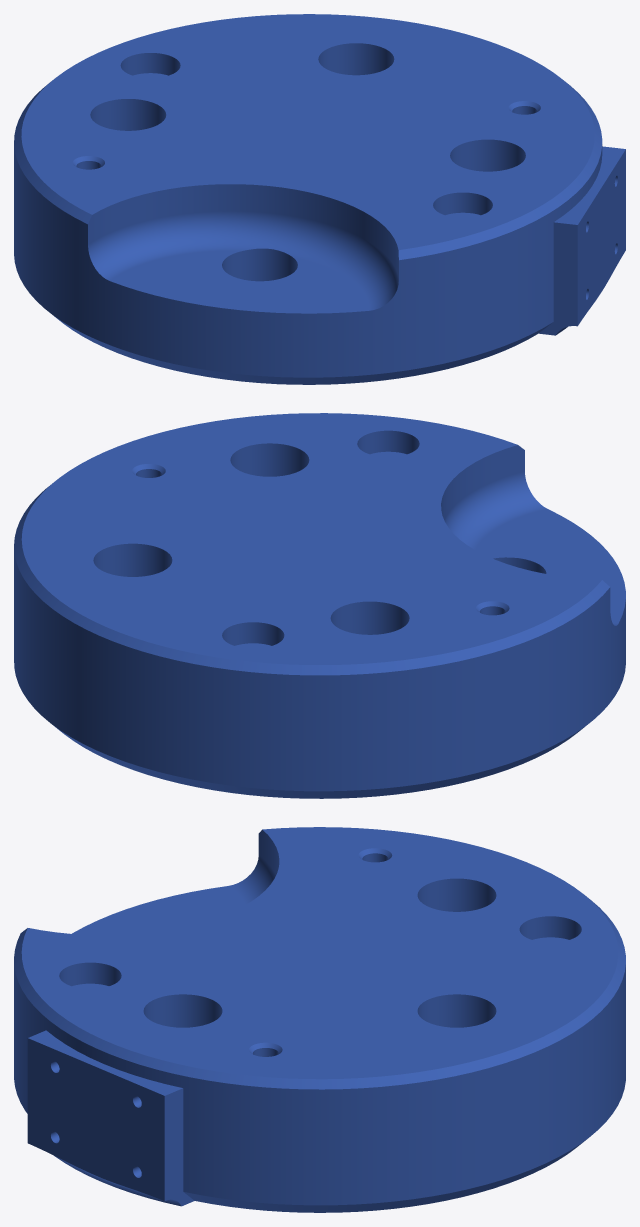
The model's file is gripper_iiwa_attachment.dae.
3 renders of one model, top to bottom at view 1: azimuth 30°, elevation 25°; view 2: azimuth 150°, elevation 25°; view 3: azimuth 270°, elevation 25°, orthographic. The views are drawn at different scales.
Parts seen in each view (by area): view 1: ID2; view 2: ID2; view 3: ID2.
Boxes of the visible parts, x1,y1,x2,y2 form: ID2: (14, 14, 625, 384); ID2: (14, 413, 625, 798); ID2: (14, 827, 625, 1212).
Bounding box in the file's own units: 0.079 × 0.079 × 0.0195.
